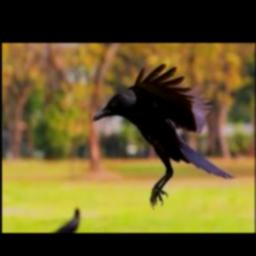Crow: (93, 64, 236, 210)
